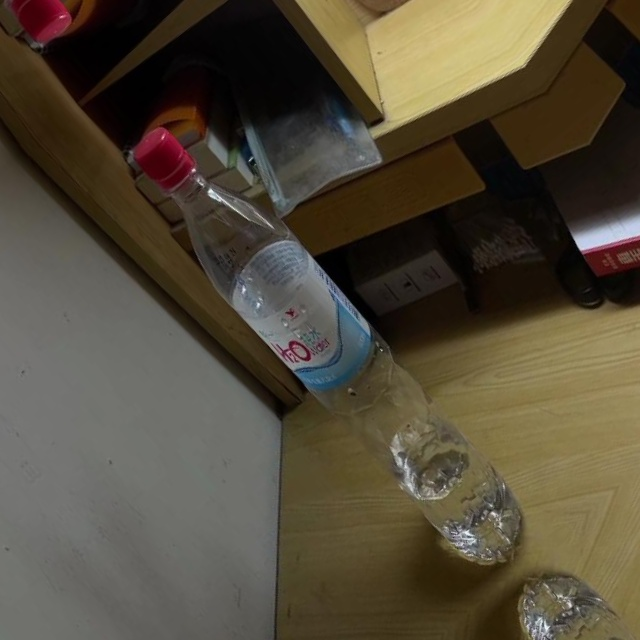Water: (107, 97, 547, 593)
